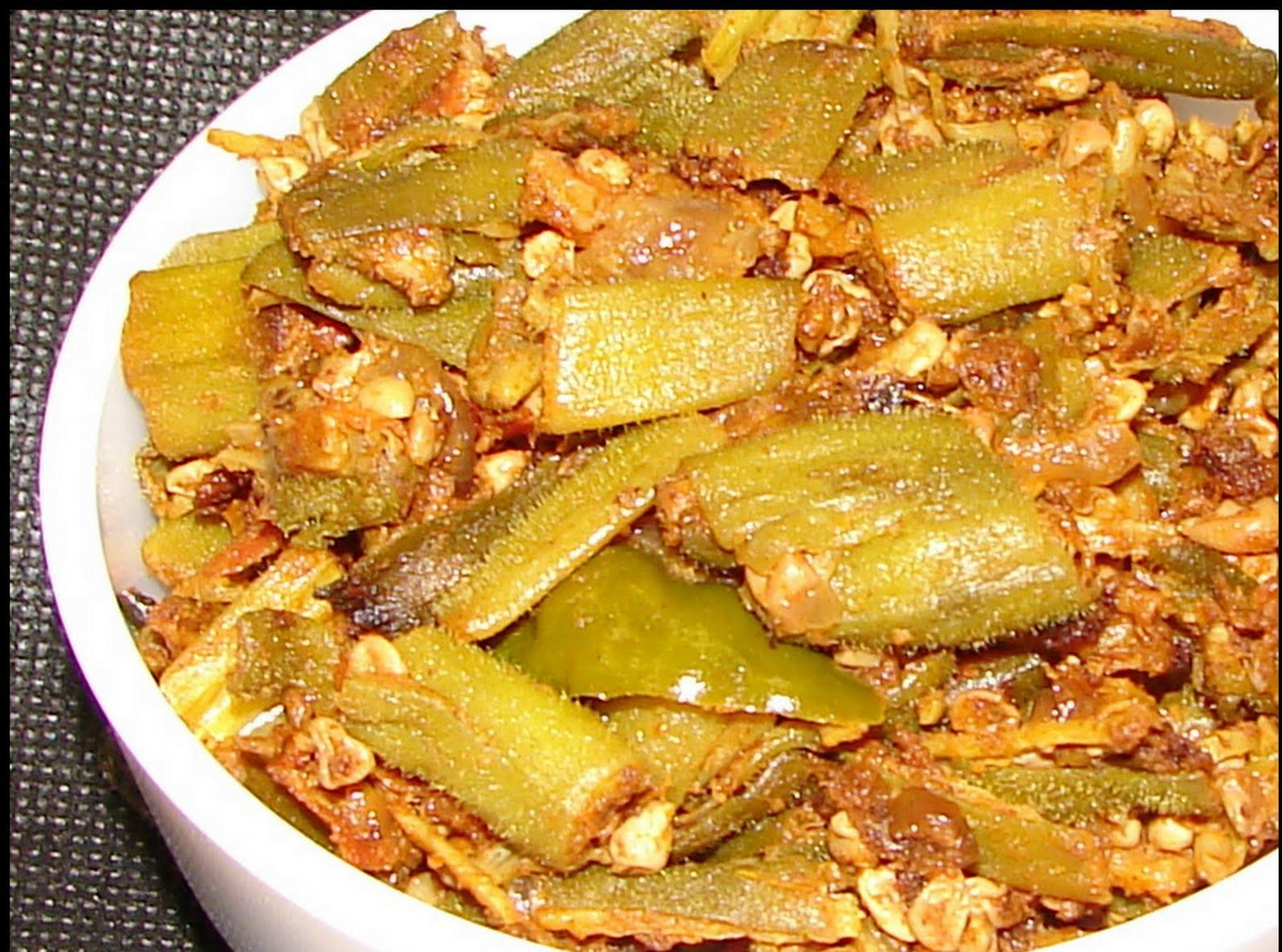BhindiMasala: (120, 11, 1277, 952)
